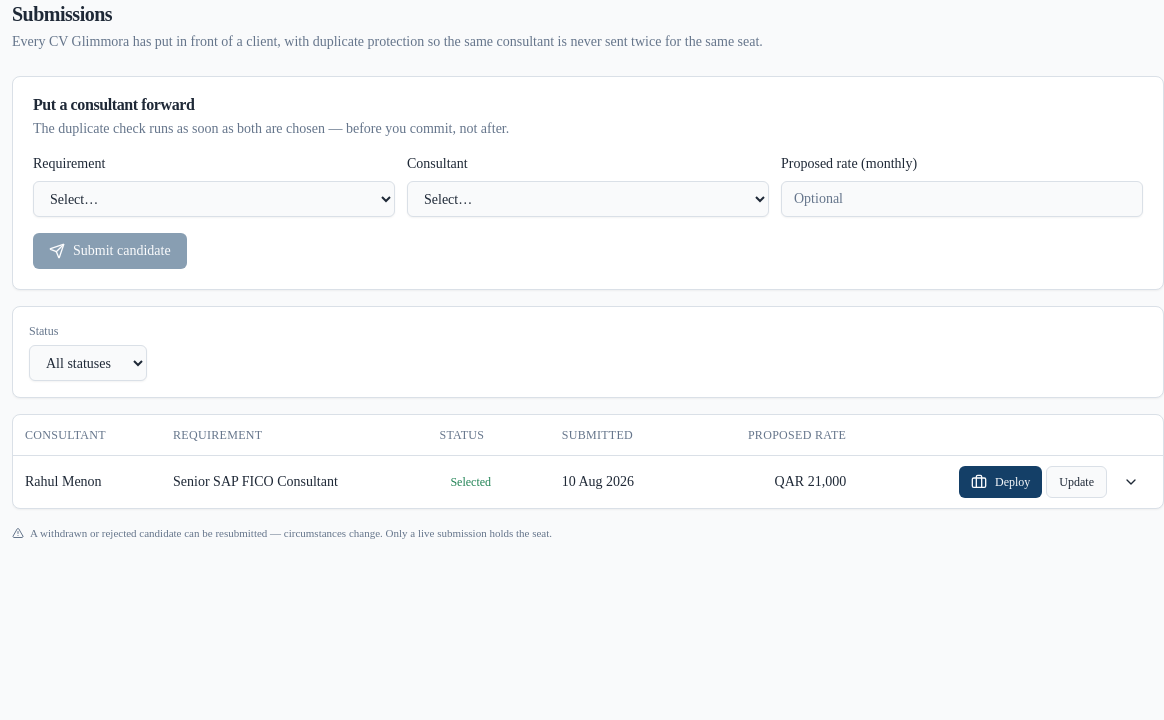
Test case: handover to delivery › rejects an end date before the start
Click the button "Deploy": (1001, 482) 959,466 -> 1042,498
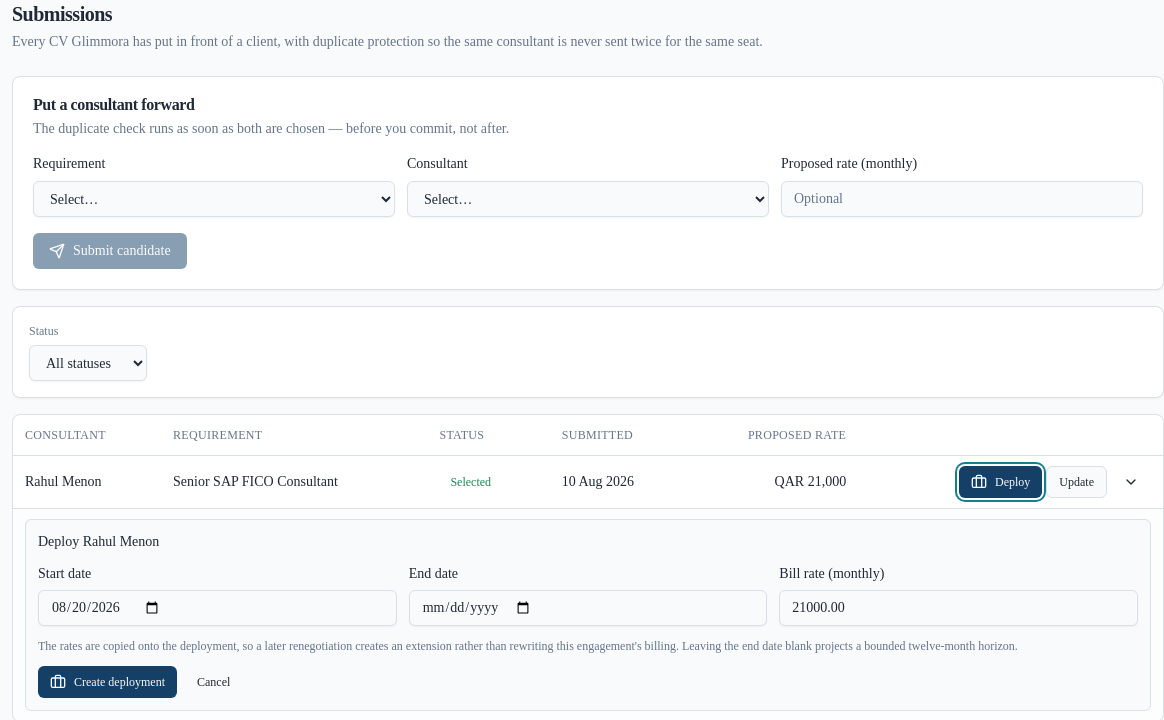
In the date field labelled "End date": (588, 608) 409,590 -> 767,626, type "2020-01-01"
(page scrolled)
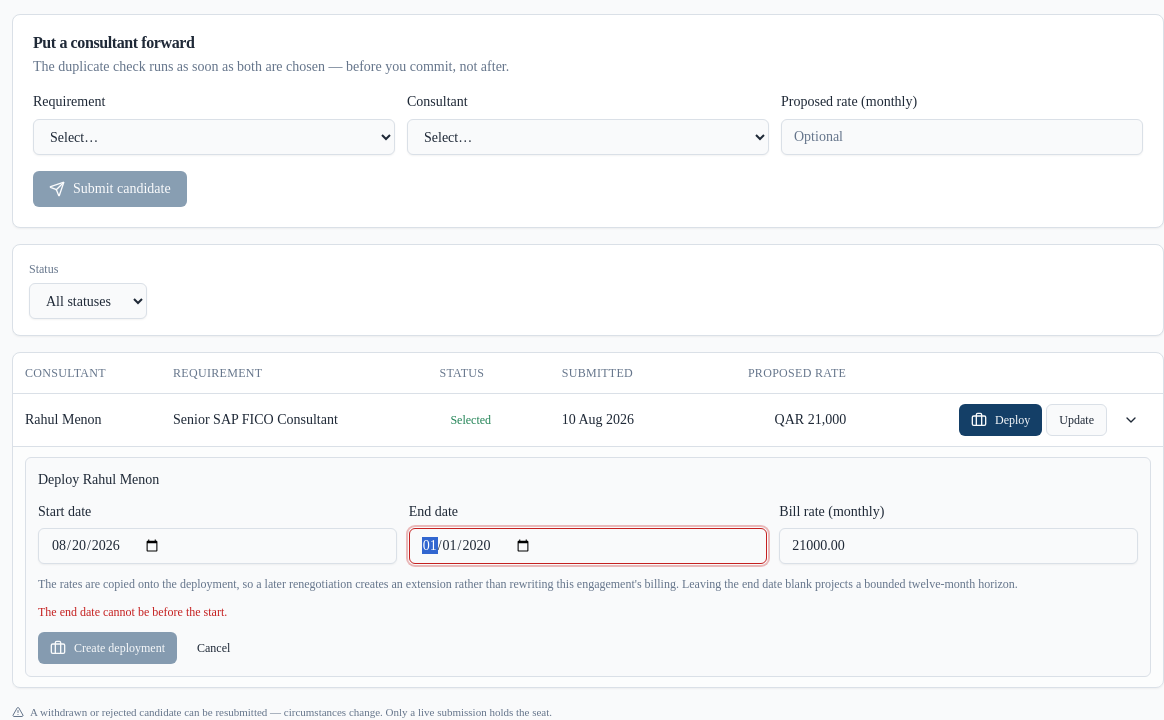
Now the text "The end date cannot be before the start." is shown, box 38,604 -> 227,618
Now the button "Create deployment" is disabled, box 38,632 -> 177,664
